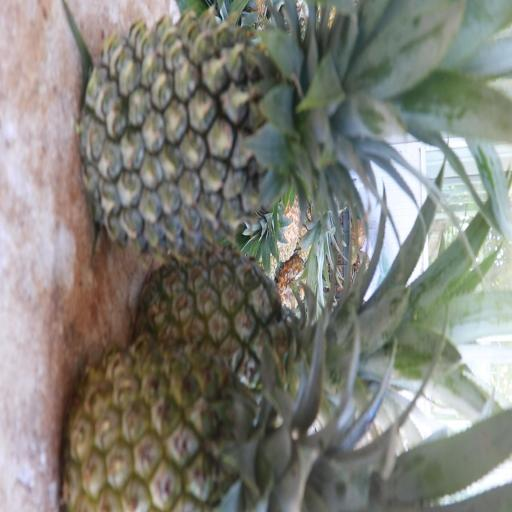------------------------------: (60, 329, 401, 511), (132, 246, 370, 420)
